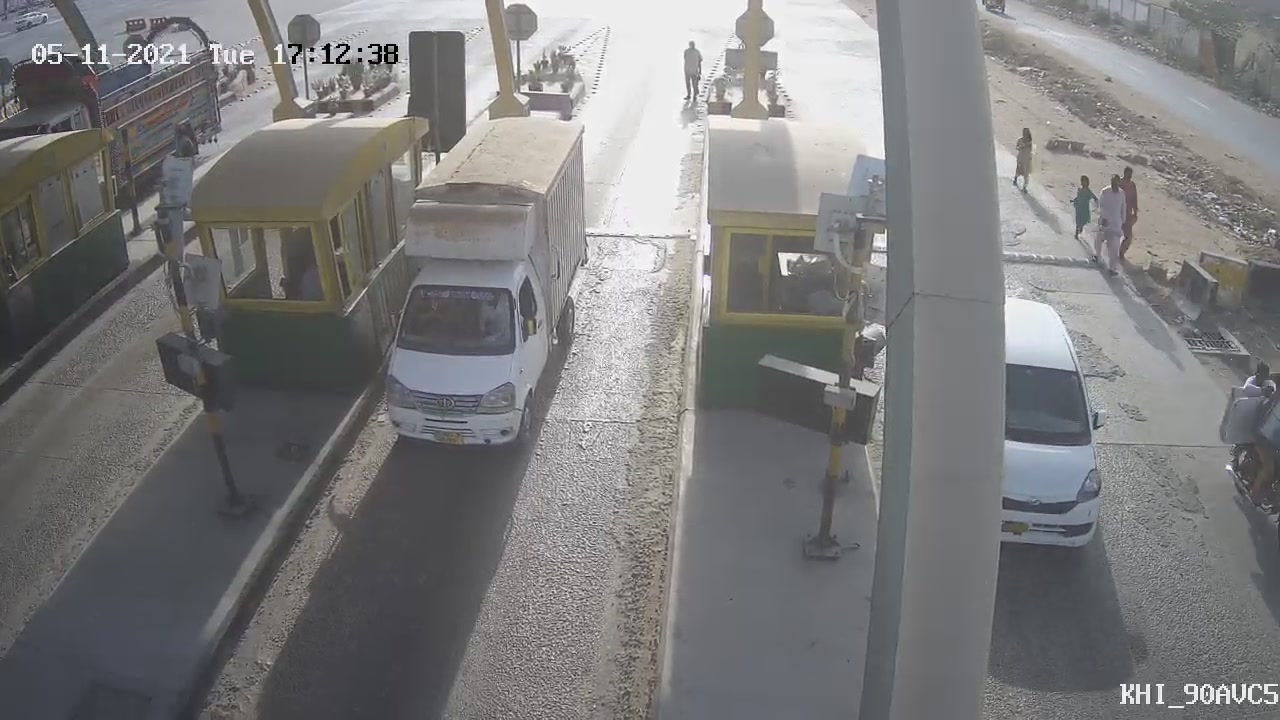F2: (352, 96, 601, 447)
